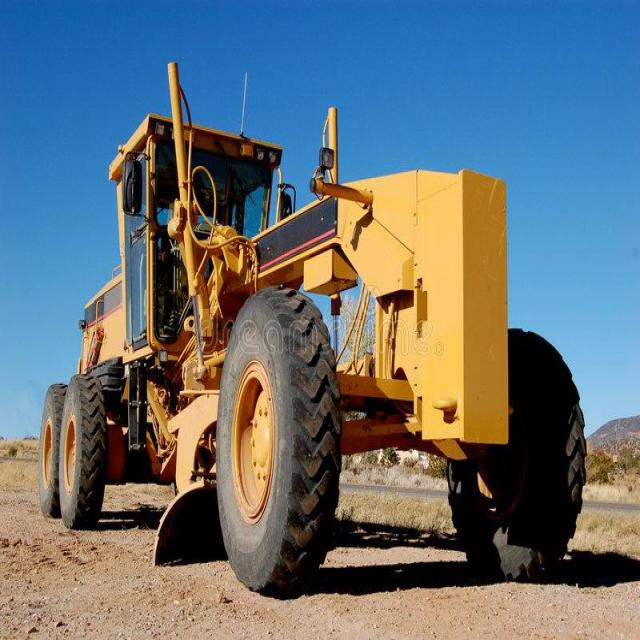Grader: (37, 91, 579, 590)
